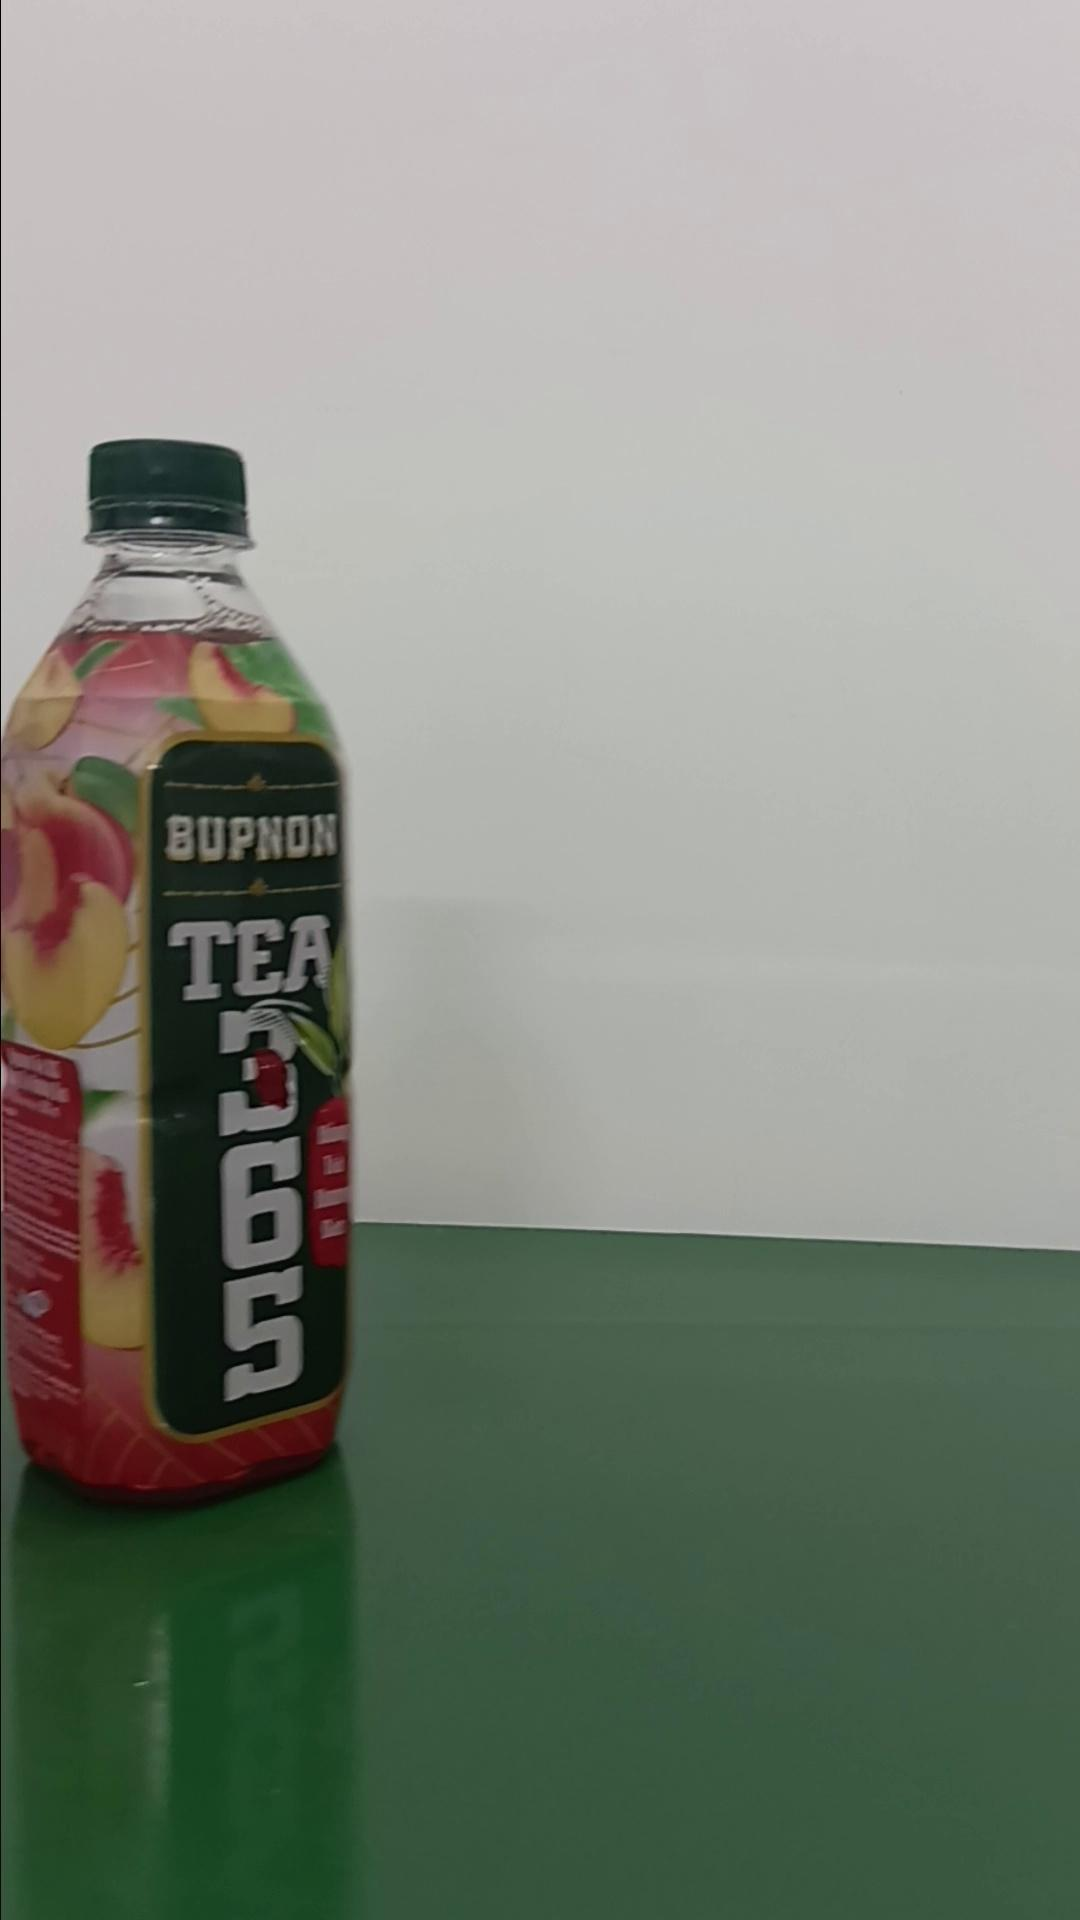loi rach va lap chai: (4, 429, 355, 1518)
